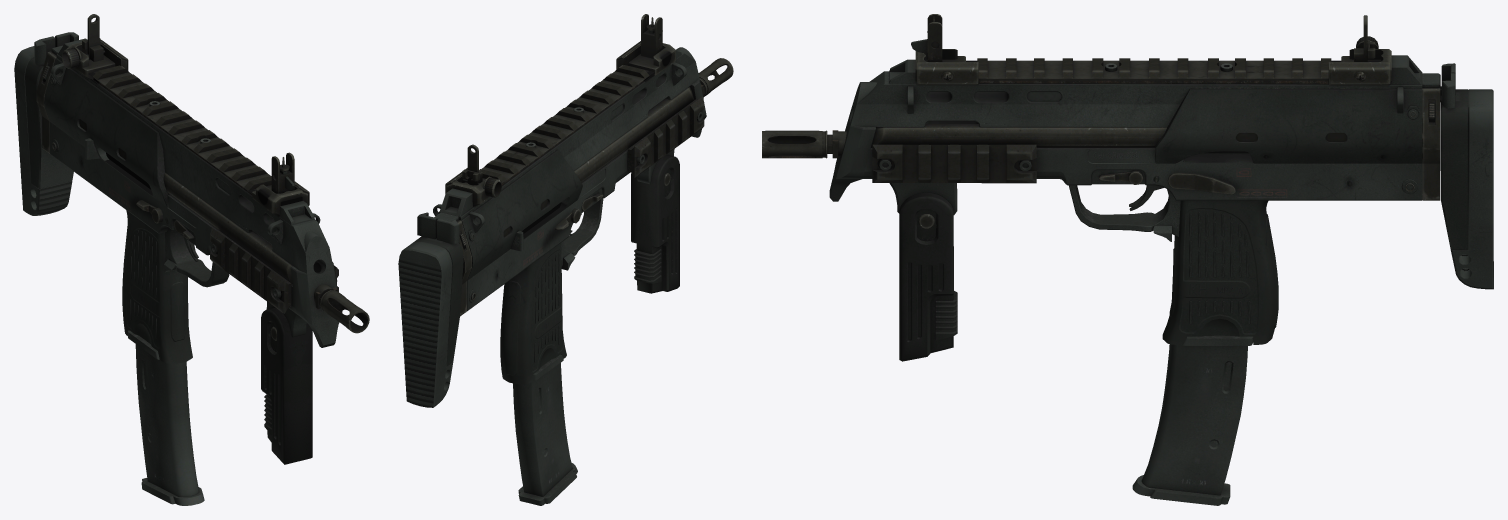
3 views of the same model, side by side, from view 1: azimuth 30°, elevation 25°; view 2: azimuth 150°, elevation 25°; view 3: azimuth 270°, elevation 25° (orthographic). The views are drawn at different scales.
Parts seen in each view (by area): view 1: mp7; view 2: mp7; view 3: mp7.
Part boxes in pixels (x1,y1,x2,y2): mp7: (14, 14, 369, 505); mp7: (398, 14, 733, 505); mp7: (762, 14, 1493, 505).
Bounding box in the file's own units: 1.72 × 11.4 × 15.68.
1 material, 1 textured.
